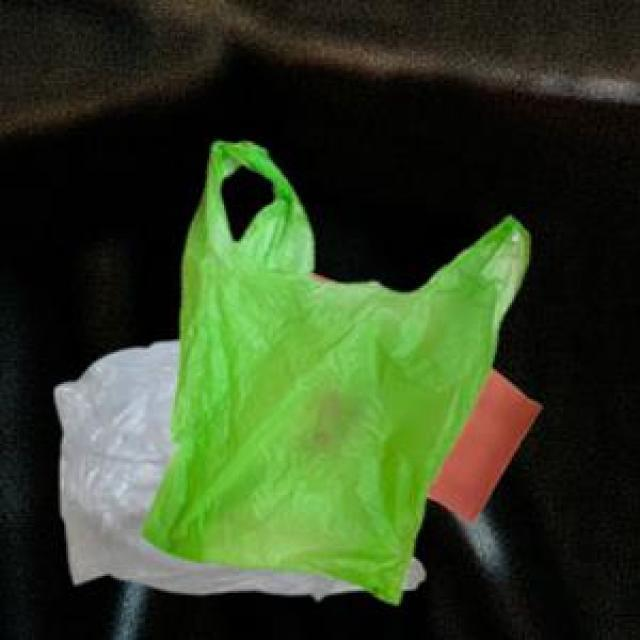waste: (55, 141, 540, 602)
